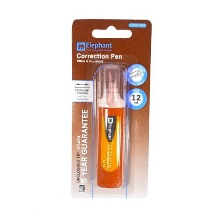book: (69, 16, 151, 203)
correction_fluid: (89, 61, 129, 191)
